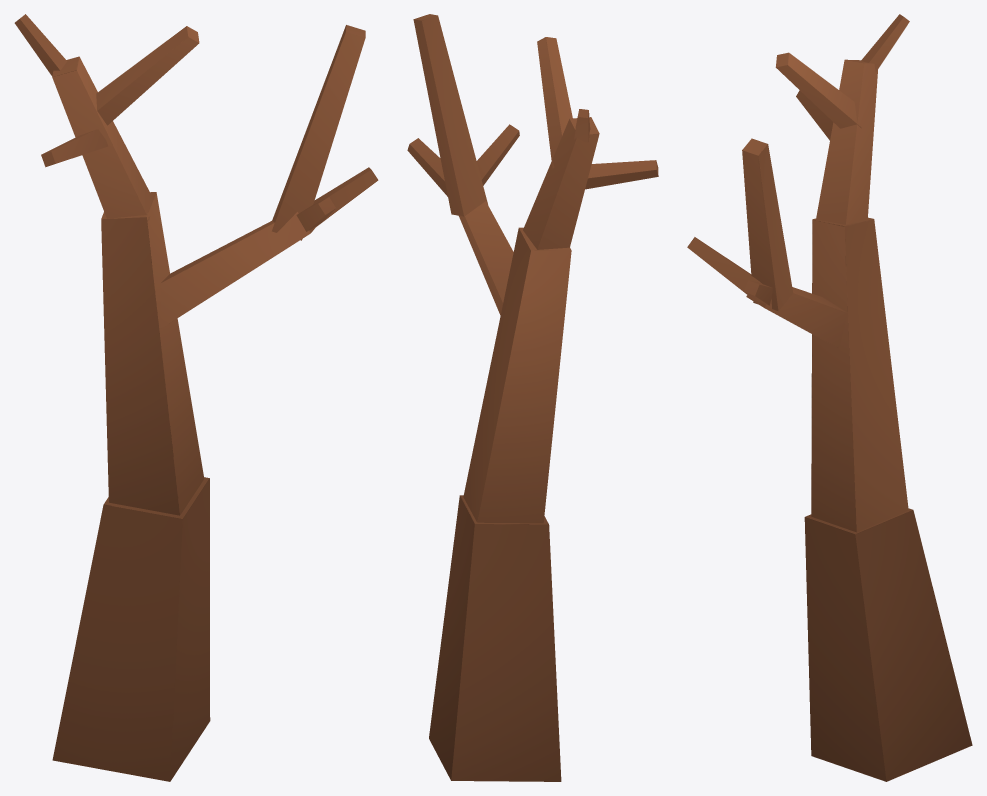
The model's file is tree.glb.
3 renders of one model, left to right at view 1: azimuth 30°, elevation 25°; view 2: azimuth 150°, elevation 25°; view 3: azimuth 270°, elevation 25°, orthographic. The views are drawn at different scales.
Parts seen in each view (by area): view 1: trree-trunk.004; view 2: trree-trunk.004; view 3: trree-trunk.004.
Part boxes in pixels (left/top/right/bottom): trree-trunk.004: left=14, top=14, right=378, bottom=781; trree-trunk.004: left=407, top=14, right=658, bottom=781; trree-trunk.004: left=687, top=14, right=972, bottom=781.
Size of the model in its own units: 1.23 by 2.95 by 1.08.
1 material, 1 textured.
